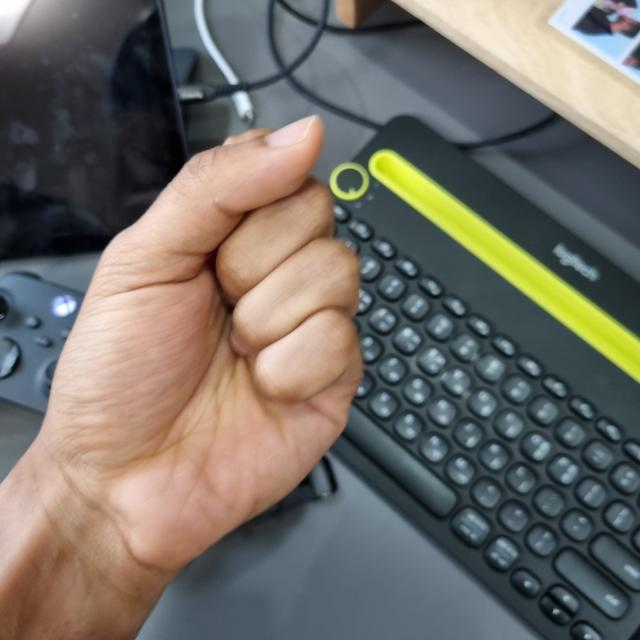Rock: (36, 123, 360, 554)
